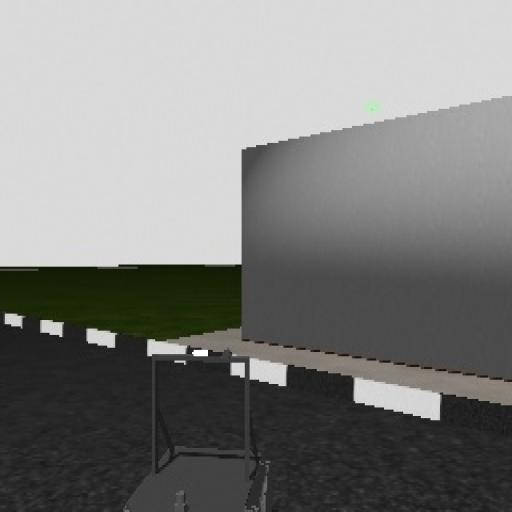huskya200: (117, 339, 275, 512)
